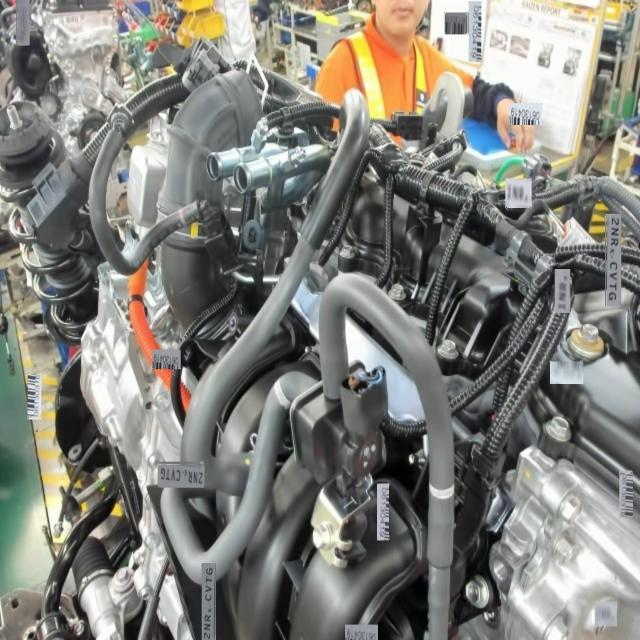Hose Canister-PT: (428, 479, 458, 503)
Tube Sub Assy Fuel-HJ: (178, 204, 190, 232)
